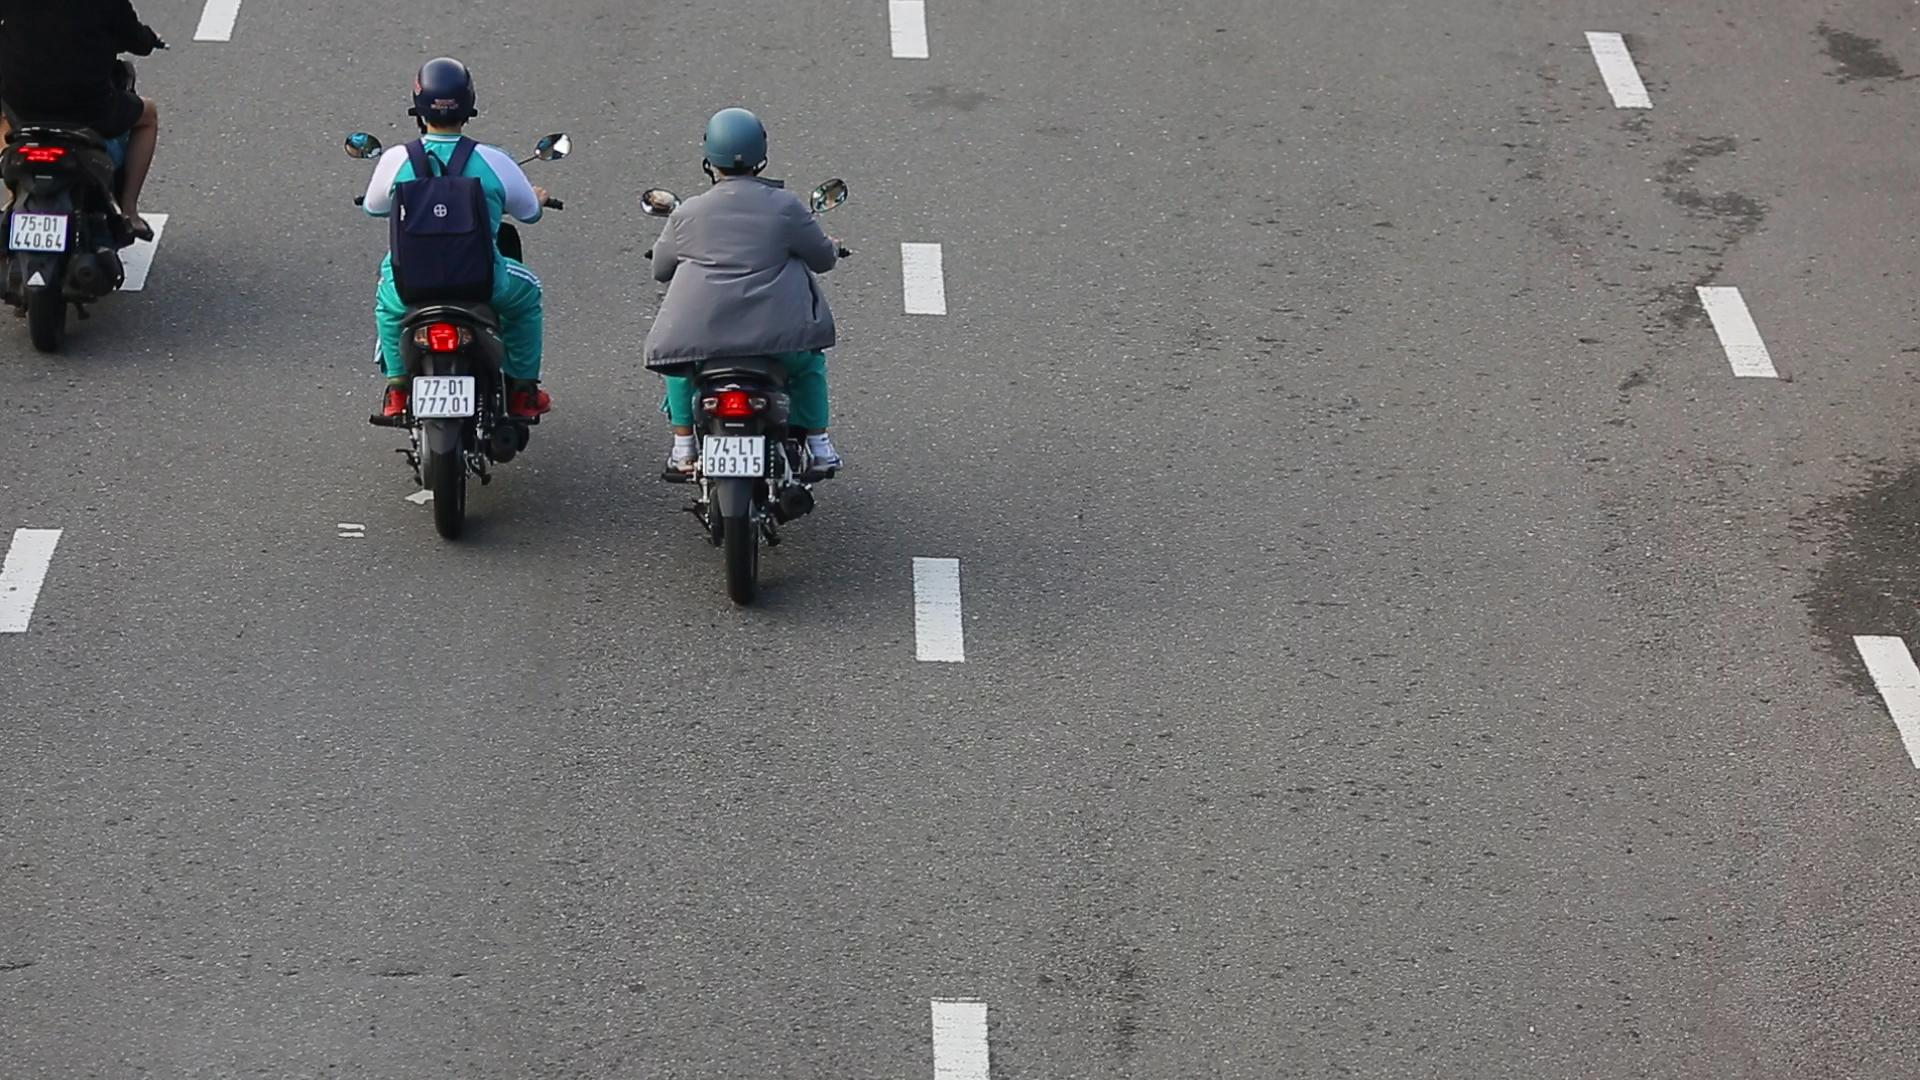motobike: (624, 91, 873, 612), (332, 53, 579, 556)
